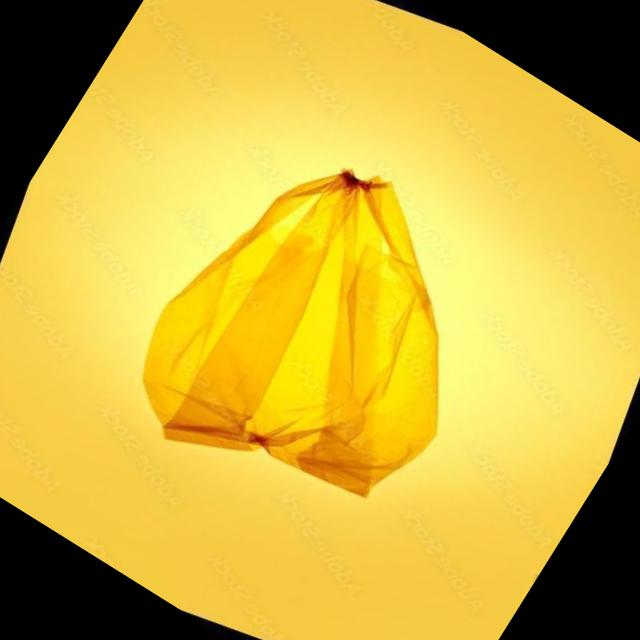KantongPlastik: (103, 112, 540, 561)
